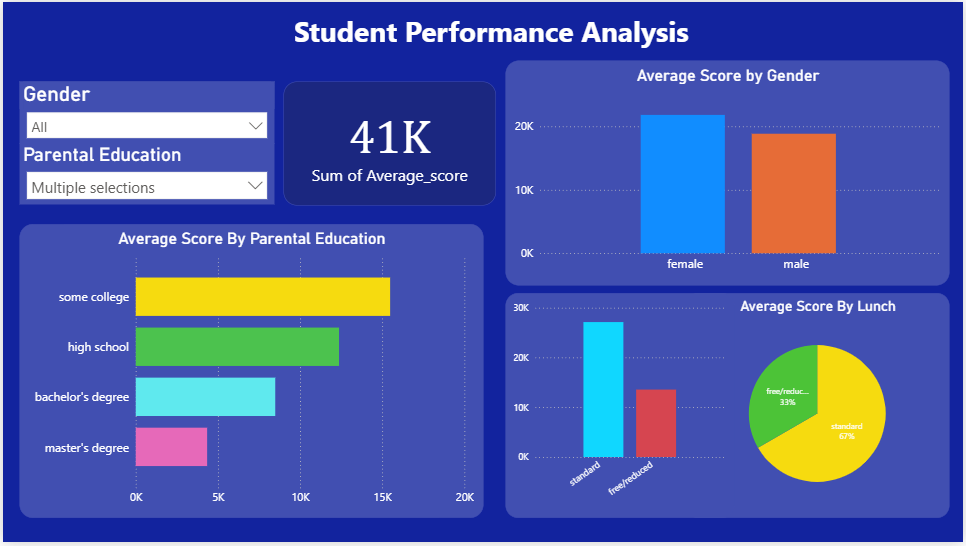

What the dashboard file says about the page in this screenshot:
{"tool":"powerbi","page":{"name":"Page 1","canvas":[1280,720],"ordinal":0},"visuals":[{"type":"pieChart","title":"Average Score By Lunch","fields":{"Y":["Sum(study_performance.Average_score)"],"Category":["study_performance.lunch"]},"box":[910,388,352,300],"z":0},{"type":"slicer","title":"Gender","fields":{"Values":["study_performance.gender"]},"box":[21.7,105,340,83.3],"z":1000},{"type":"columnChart","title":"Average Score by Gender","fields":{"Category":["study_performance.gender"],"Y":["Sum(study_performance.Average_score)"]},"box":[670,78,592,300],"z":2000},{"type":"card","fields":{"Values":["Sum(study_performance.Average_score)"]},"box":[373.3,105,283.3,165],"z":2500},{"type":"clusteredBarChart","title":"Average Score By Parental Education","fields":{"Y":["Sum(study_performance.Average_score)"],"Category":["study_performance.parental_level_of_education"]},"box":[21.7,296.7,618.3,391.7],"z":3000},{"type":"textbox","box":[22,8,1258,70],"z":5000},{"type":"slicer","title":"Parental Education","fields":{"Values":["study_performance.parental_level_of_education"]},"box":[21.7,188.3,340,81.7],"z":6000},{"type":"columnChart","fields":{"Category":["study_performance.lunch"],"Y":["Sum(study_performance.Average_score)"]},"box":[670,388.3,305,300],"z":8000}]}

Visuals, with their boxes in screenshot pixels (x1, y1, x2, y2), scaled from the page's 1280x720 canvas onto the 966x546 screenshot:
"Average Score By Lunch" pieChart: BBox(687, 294, 952, 522)
"Gender" slicer: BBox(16, 80, 273, 143)
"Average Score by Gender" columnChart: BBox(506, 59, 952, 287)
card - Sum(study_performance.Average_score): BBox(282, 80, 496, 205)
"Average Score By Parental Education" clusteredBarChart: BBox(16, 225, 483, 522)
textbox: BBox(17, 6, 965, 59)
"Parental Education" slicer: BBox(16, 143, 273, 205)
columnChart - study_performance.lunch x Sum(study_performance.Average_score): BBox(506, 294, 736, 522)
